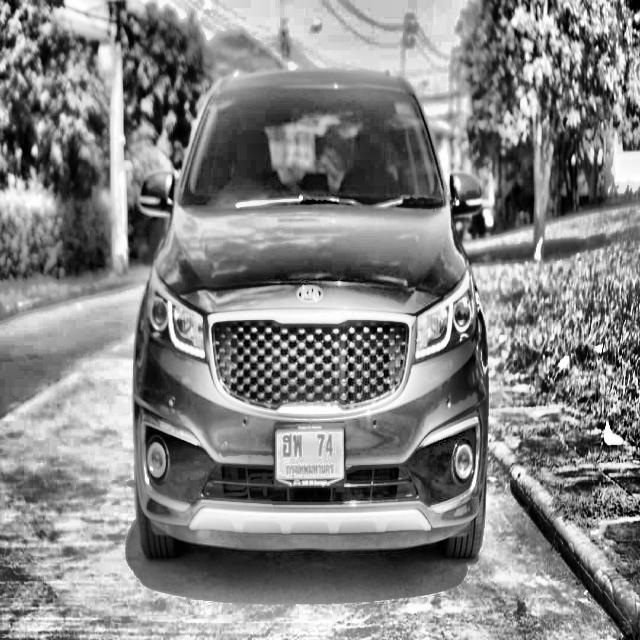license-plate: (273, 424, 346, 490)
